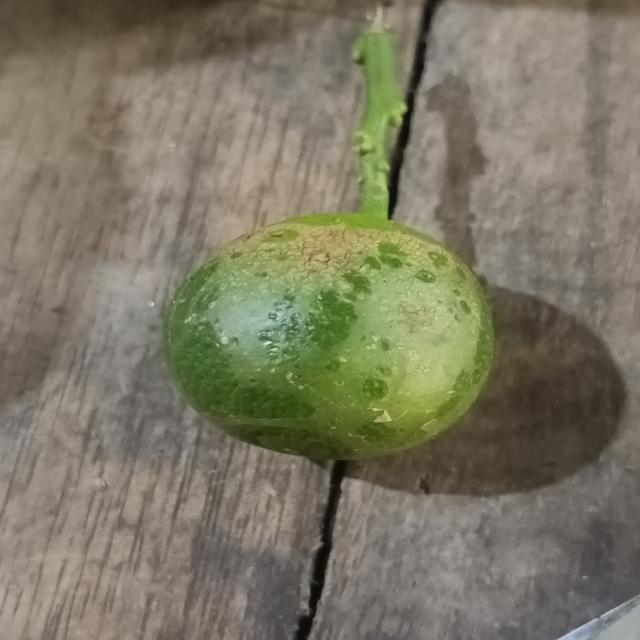thrips: (158, 210, 498, 464)
